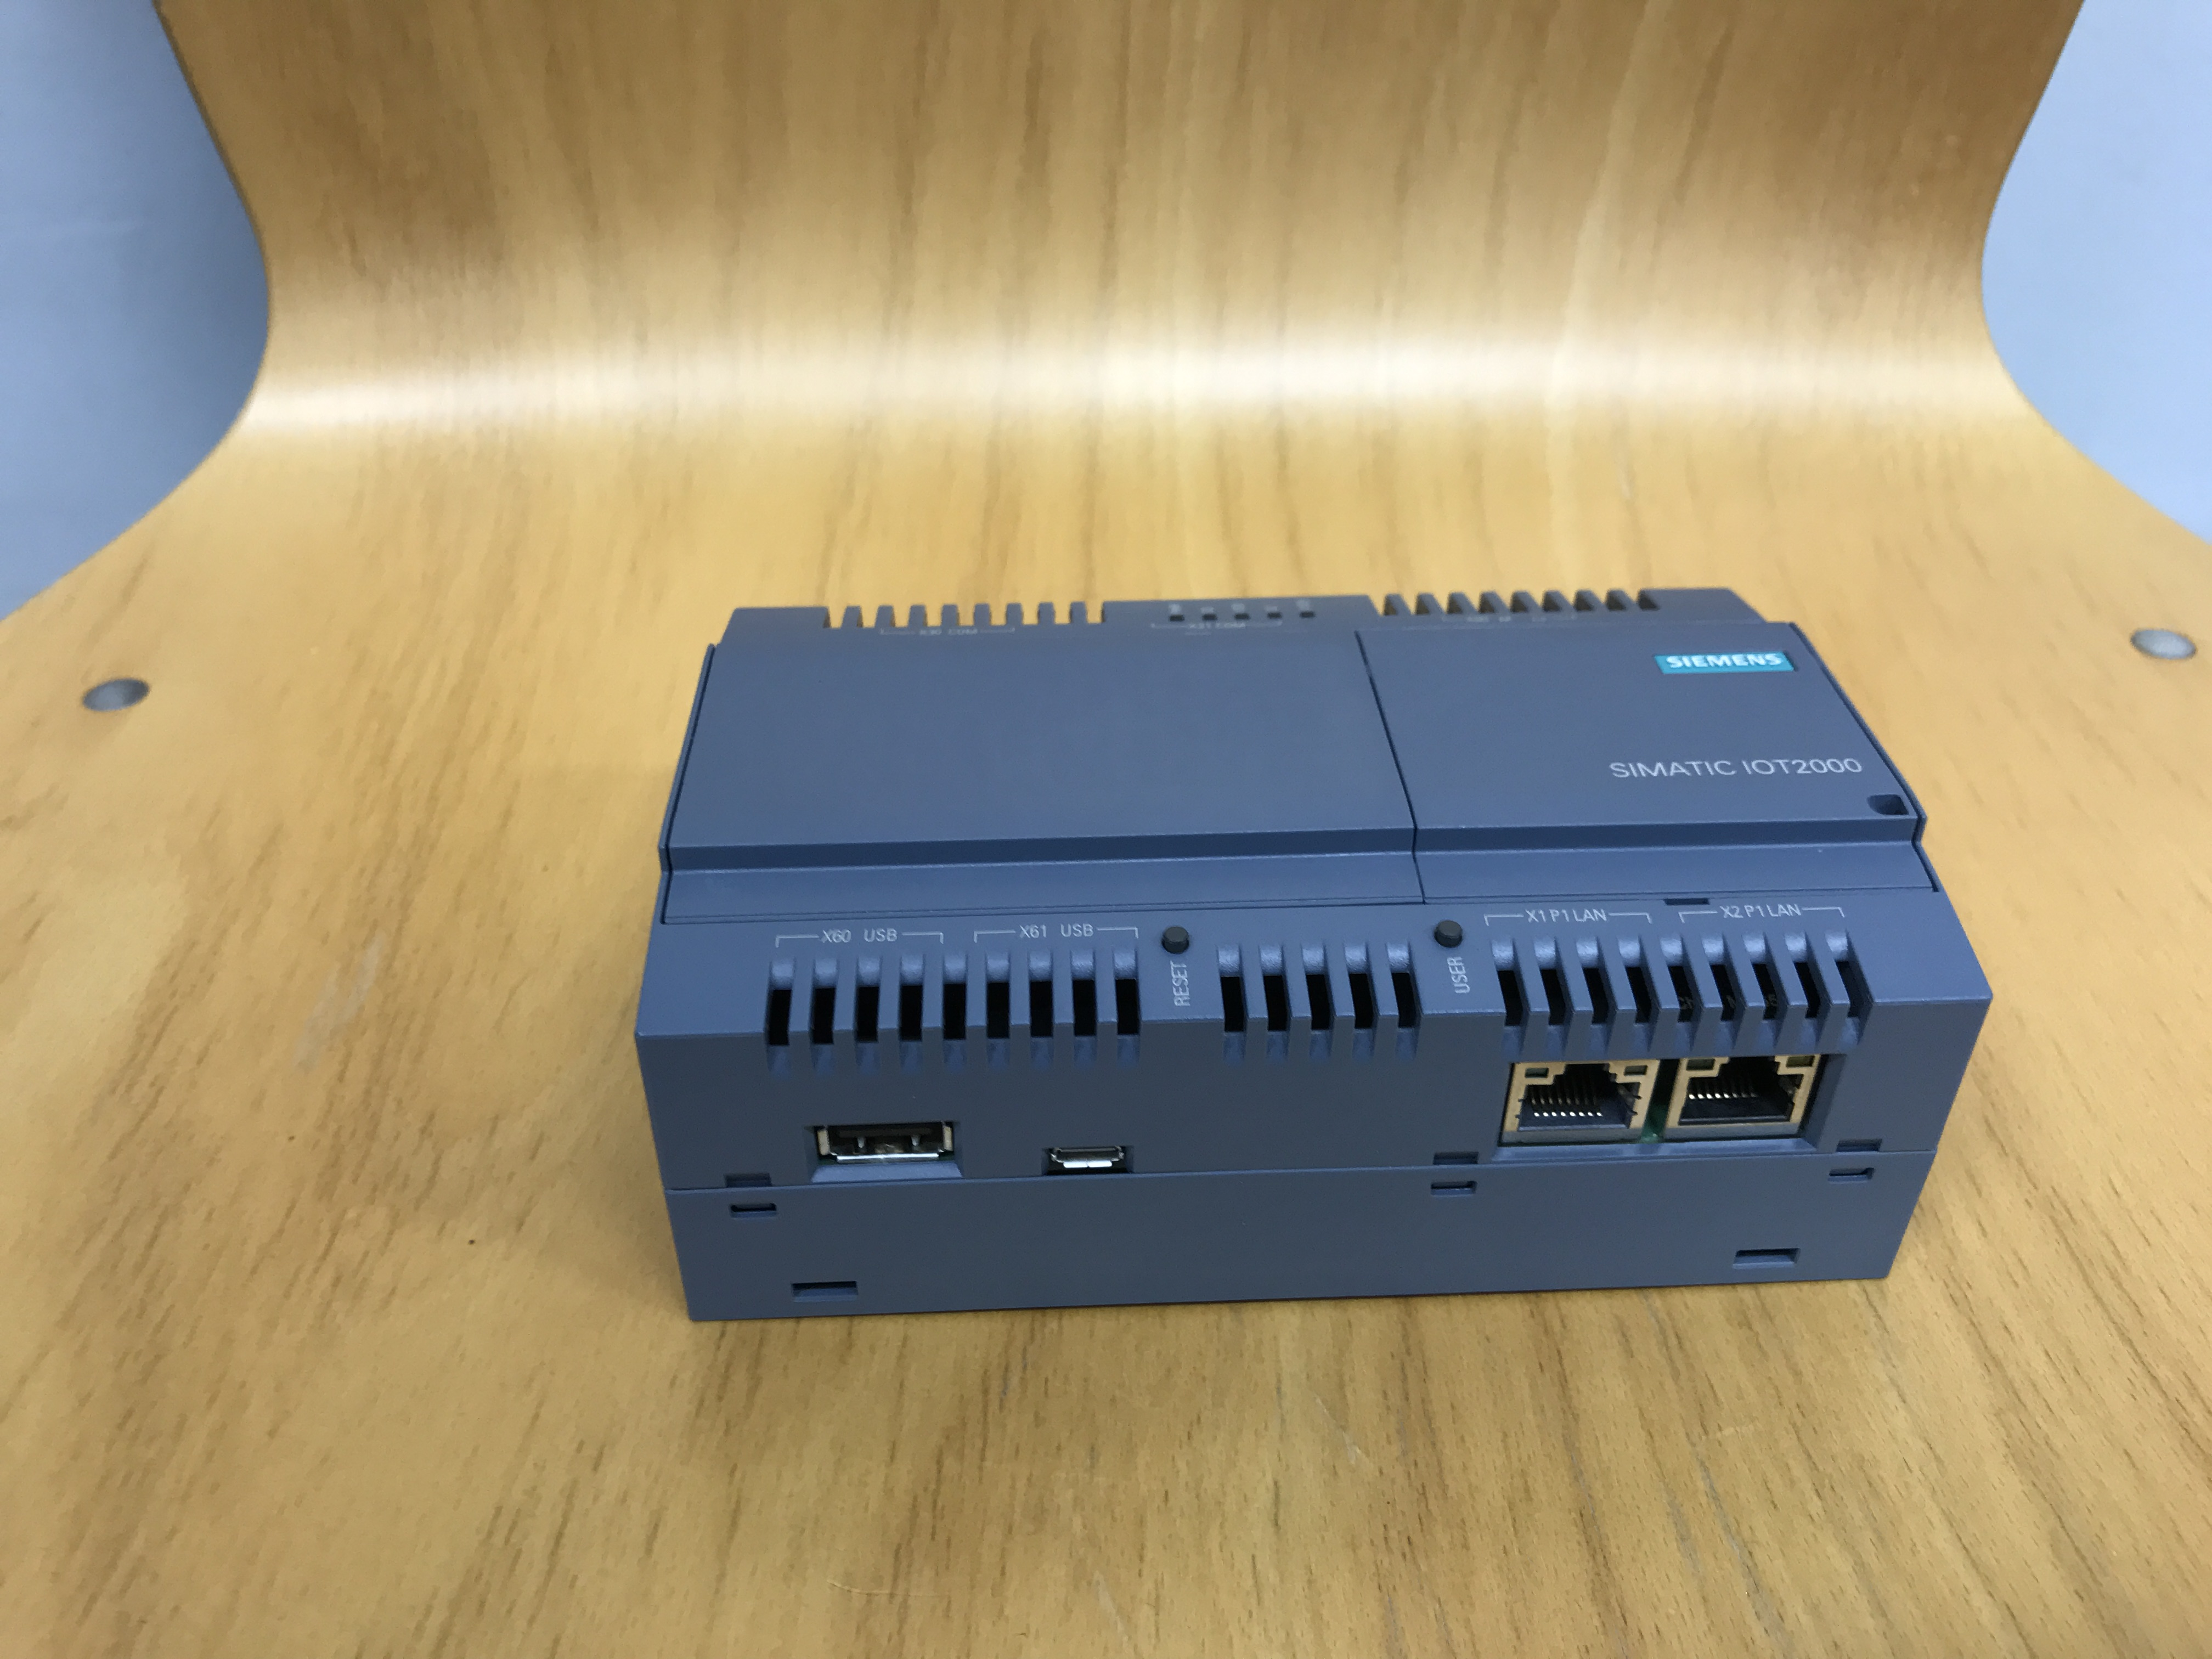device: (631, 586, 1996, 1324)
